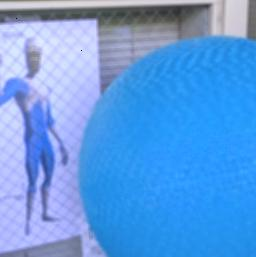algae: (76, 30, 256, 257)
